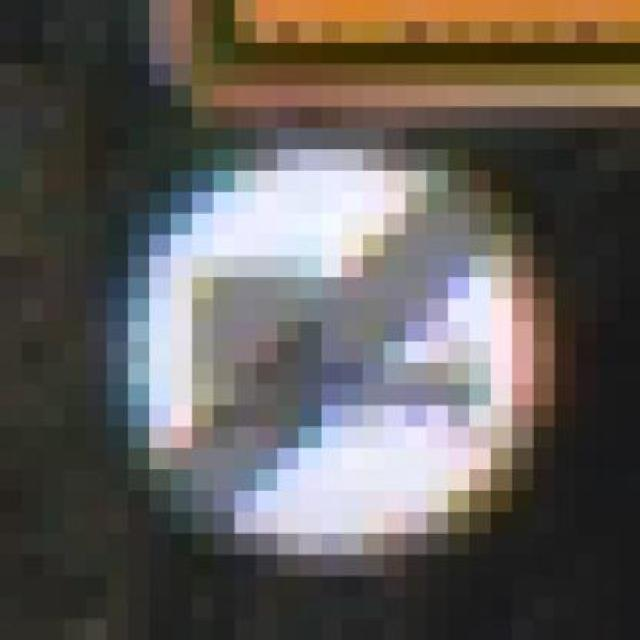Overtaking by trucks is prohibited: (21, 129, 619, 576)
